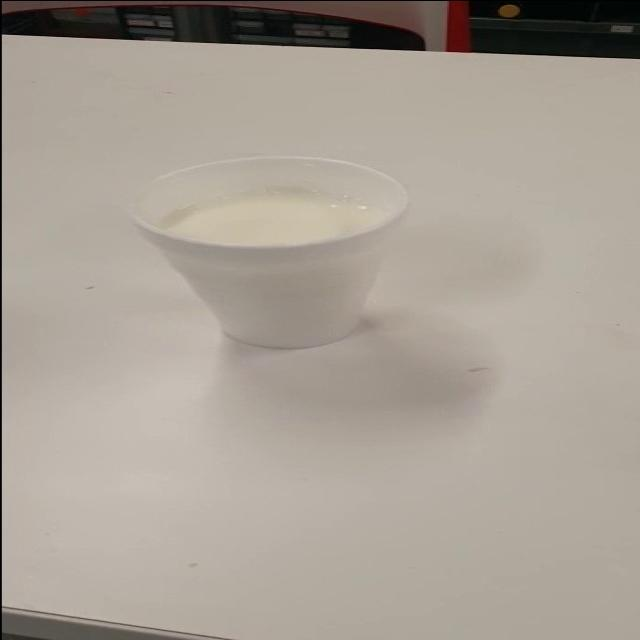Milk: (112, 149, 444, 357)
